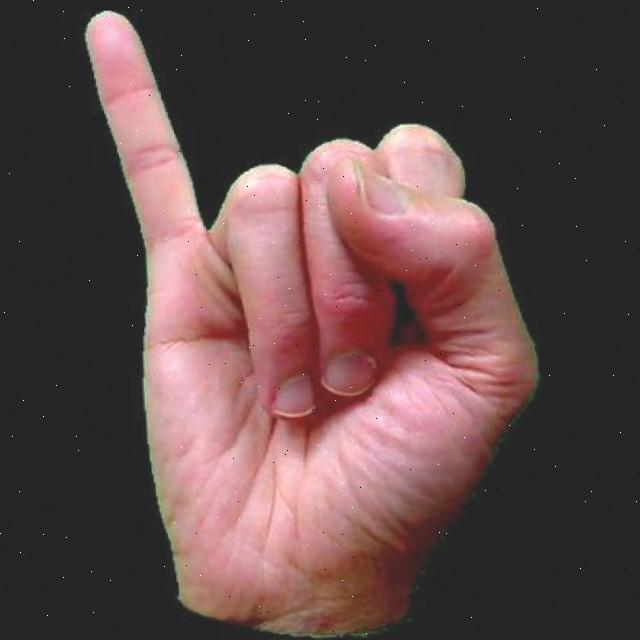i: (57, 0, 552, 640)
